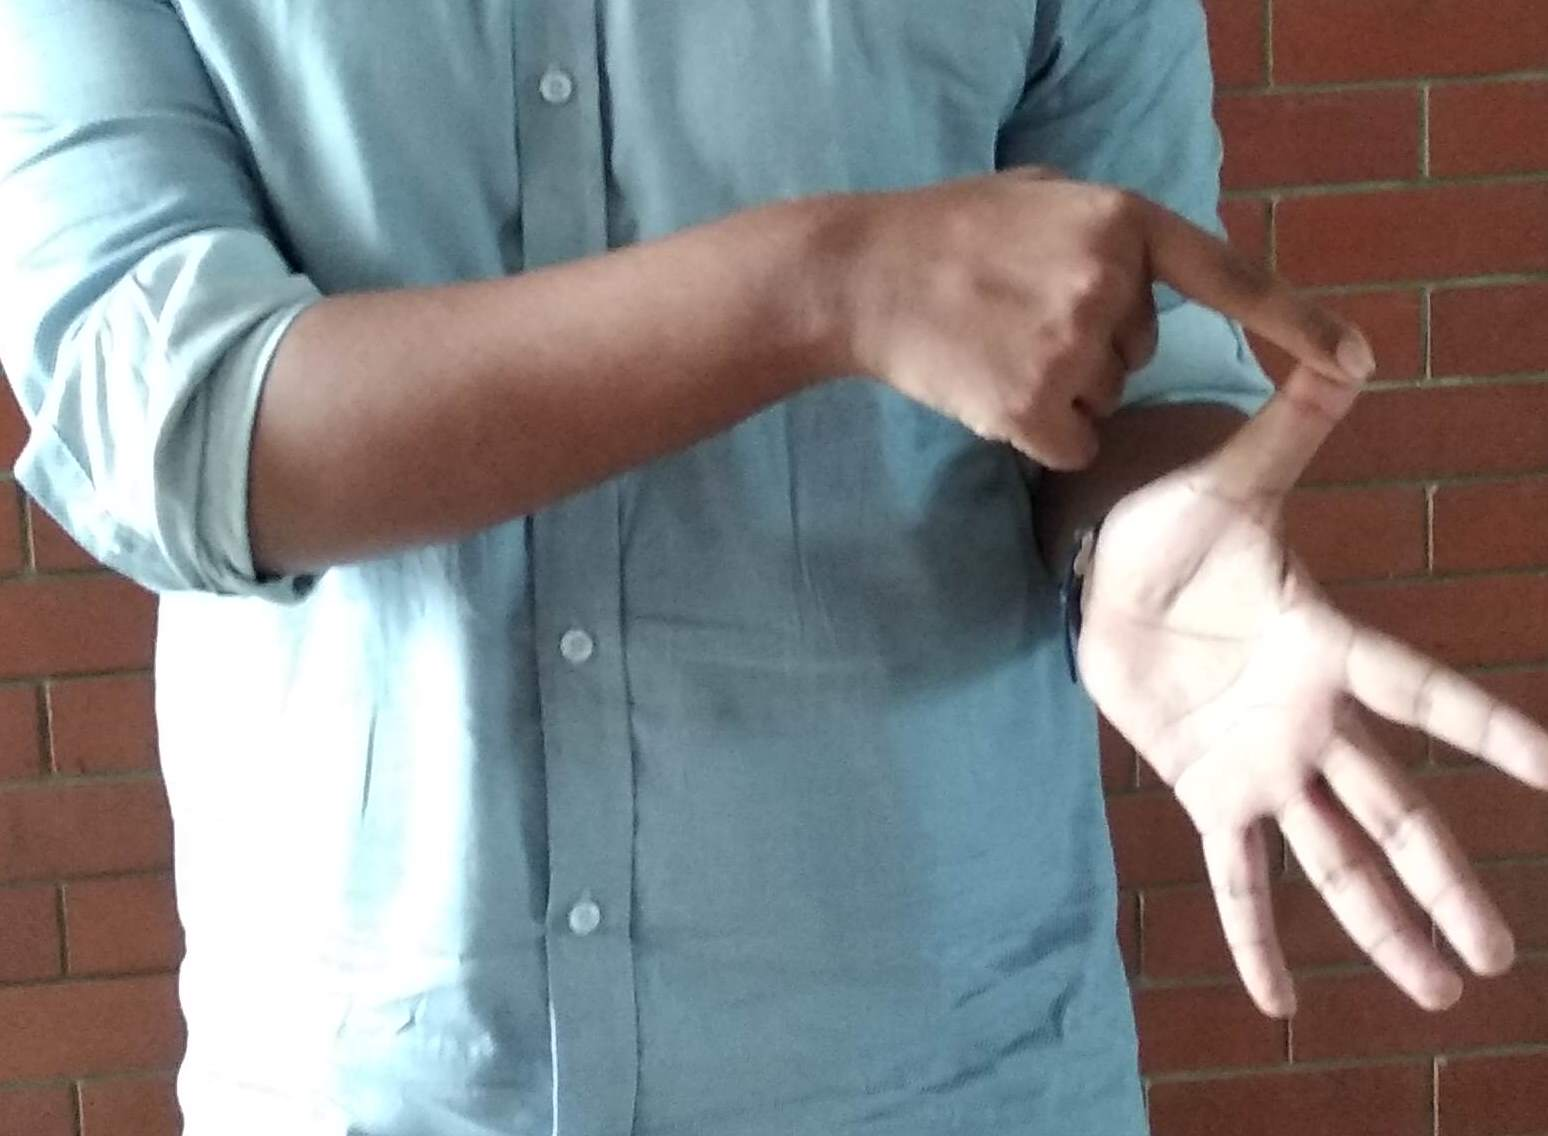a: (964, 212, 1541, 1049)
